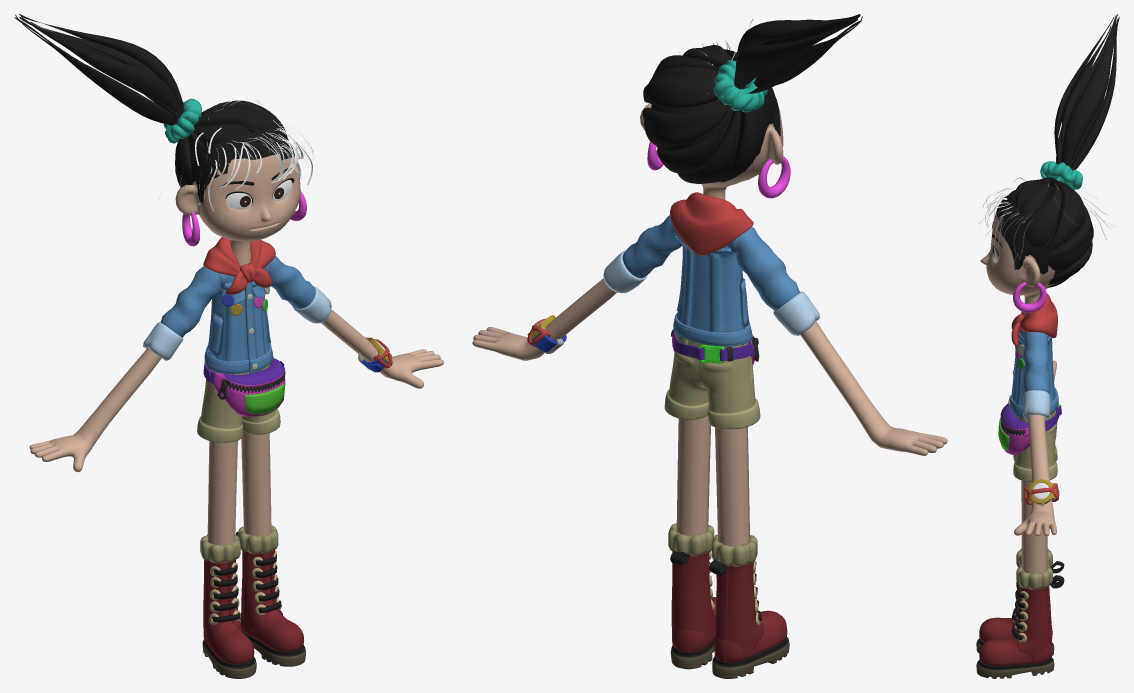
The model's file is r84-ellie-relaxed-audition.glb.
3 renders of one model, left to right at view 1: azimuth 30°, elevation 25°; view 2: azimuth 150°, elevation 25°; view 3: azimuth 270°, elevation 25°, orthographic. The views are drawn at different scales.
Visible parts, largest first — view 1: R84_AUDITION_GEO_GEO-ellie_body, R84_AUDITION_GEO_GEO-ellie_boots, R84_AUDITION_GEO_GEO-ellie_hair.groom_base, R84_AUDITION_GEO_GEO-ellie_jacket, R84_AUDITION_GEO_GEO-ellie_head, R84_AUDITION_GEO_GEO-ellie_hair.scalp, R84_AUDITION_GEO_GEO-ellie_trousers, R84_AUDITION_GEO_GEO-ellie_fannypack_main, R84_AUDITION_GEO_GEO-ellie_handkerchief, R84_AUDITION_GEO_GEO-ellie_hair_cut.scalp-front, R84_AUDITION_GEO_GEO-ellie_scrunchy, R84_AUDITION_GEO_GEO-ellie_hair_cut.scalp-loose (+1 smaller); view 2: R84_AUDITION_GEO_GEO-ellie_hair.groom_base, R84_AUDITION_GEO_GEO-ellie_body, R84_AUDITION_GEO_GEO-ellie_jacket, R84_AUDITION_GEO_GEO-ellie_boots, R84_AUDITION_GEO_GEO-ellie_trousers, R84_AUDITION_GEO_GEO-ellie_handkerchief, R84_AUDITION_GEO_GEO-ellie_head, R84_AUDITION_GEO_GEO-ellie_scrunchy, R84_AUDITION_GEO_GEO-ellie_earrings, R84_AUDITION_GEO_GEO-ellie_hair.scalp, R84_AUDITION_GEO_GEO-ellie_watch, R84_AUDITION_GEO_GEO-ellie_fannypack_strap; view 3: R84_AUDITION_GEO_GEO-ellie_hair.groom_base, R84_AUDITION_GEO_GEO-ellie_boots, R84_AUDITION_GEO_GEO-ellie_body, R84_AUDITION_GEO_GEO-ellie_jacket, R84_AUDITION_GEO_GEO-ellie_head, R84_AUDITION_GEO_GEO-ellie_hair.scalp, R84_AUDITION_GEO_GEO-ellie_handkerchief, R84_AUDITION_GEO_GEO-ellie_trousers, R84_AUDITION_GEO_GEO-ellie_fannypack_main, R84_AUDITION_GEO_GEO-ellie_scrunchy, R84_AUDITION_GEO_GEO-ellie_watch, R84_AUDITION_GEO_GEO-ellie_hair_cut.scalp-loose (+2 smaller).
Boxes of the visible parts, x1,y1,x2,y2 form: R84_AUDITION_GEO_GEO-ellie_body: (29, 309, 443, 545); R84_AUDITION_GEO_GEO-ellie_boots: (200, 525, 305, 678); R84_AUDITION_GEO_GEO-ellie_hair.groom_base: (14, 14, 287, 187); R84_AUDITION_GEO_GEO-ellie_jacket: (143, 255, 331, 374); R84_AUDITION_GEO_GEO-ellie_head: (175, 122, 300, 266); R84_AUDITION_GEO_GEO-ellie_hair.scalp: (191, 125, 294, 203); R84_AUDITION_GEO_GEO-ellie_trousers: (197, 364, 280, 442); R84_AUDITION_GEO_GEO-ellie_fannypack_main: (214, 358, 285, 416); R84_AUDITION_GEO_GEO-ellie_handkerchief: (203, 237, 275, 294); R84_AUDITION_GEO_GEO-ellie_hair_cut.scalp-front: (195, 127, 312, 211); R84_AUDITION_GEO_GEO-ellie_scrunchy: (163, 98, 201, 143); R84_AUDITION_GEO_GEO-ellie_hair_cut.scalp-loose: (159, 93, 313, 198); R84_AUDITION_GEO_GEO-ellie_hair.groom_base: (642, 14, 862, 183); R84_AUDITION_GEO_GEO-ellie_body: (472, 278, 947, 546); R84_AUDITION_GEO_GEO-ellie_jacket: (603, 215, 819, 346); R84_AUDITION_GEO_GEO-ellie_boots: (668, 523, 789, 678); R84_AUDITION_GEO_GEO-ellie_trousers: (664, 335, 760, 429); R84_AUDITION_GEO_GEO-ellie_handkerchief: (670, 192, 753, 255); R84_AUDITION_GEO_GEO-ellie_head: (640, 55, 783, 199); R84_AUDITION_GEO_GEO-ellie_scrunchy: (713, 60, 767, 112); R84_AUDITION_GEO_GEO-ellie_earrings: (647, 141, 790, 198); R84_AUDITION_GEO_GEO-ellie_hair.scalp: (658, 55, 780, 165); R84_AUDITION_GEO_GEO-ellie_watch: (527, 315, 566, 353); R84_AUDITION_GEO_GEO-ellie_fannypack_strap: (673, 333, 753, 361); R84_AUDITION_GEO_GEO-ellie_hair.groom_base: (1011, 14, 1119, 287); R84_AUDITION_GEO_GEO-ellie_boots: (976, 548, 1064, 678); R84_AUDITION_GEO_GEO-ellie_body: (1014, 360, 1056, 573); R84_AUDITION_GEO_GEO-ellie_jacket: (1009, 329, 1058, 420); R84_AUDITION_GEO_GEO-ellie_head: (980, 186, 1085, 317); R84_AUDITION_GEO_GEO-ellie_hair.scalp: (996, 192, 1080, 274); R84_AUDITION_GEO_GEO-ellie_handkerchief: (1011, 293, 1057, 346); R84_AUDITION_GEO_GEO-ellie_trousers: (1013, 411, 1057, 482); R84_AUDITION_GEO_GEO-ellie_fannypack_main: (998, 403, 1029, 454); R84_AUDITION_GEO_GEO-ellie_scrunchy: (1040, 161, 1082, 189); R84_AUDITION_GEO_GEO-ellie_watch: (1024, 479, 1059, 505); R84_AUDITION_GEO_GEO-ellie_hair_cut.scalp-loose: (979, 178, 1110, 276).
Size of the model in its own units: 1.03 by 1.56 by 0.355.
